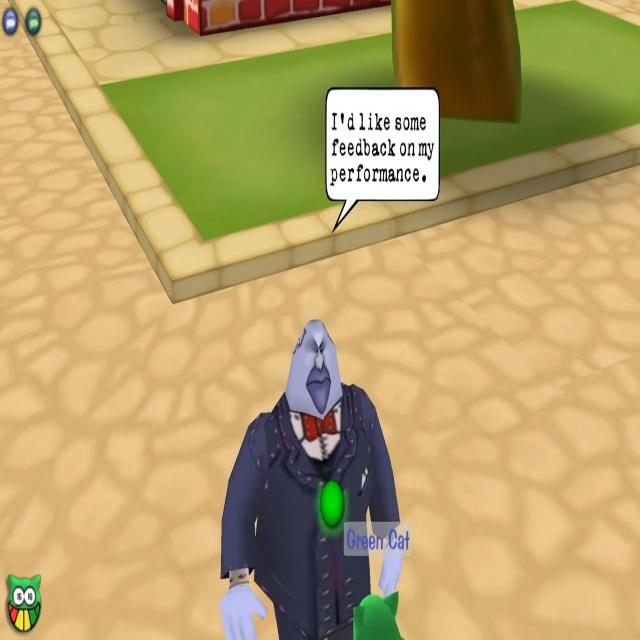bottomfeeder: (206, 75, 446, 640)
